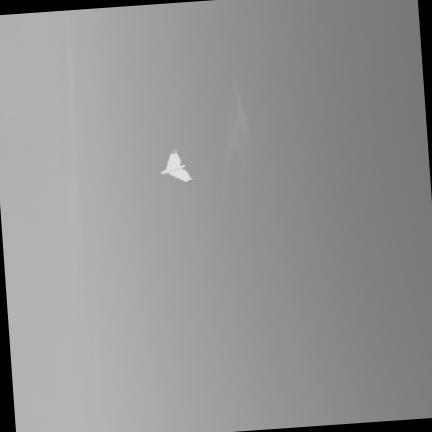Shahed: (160, 150, 191, 182)
